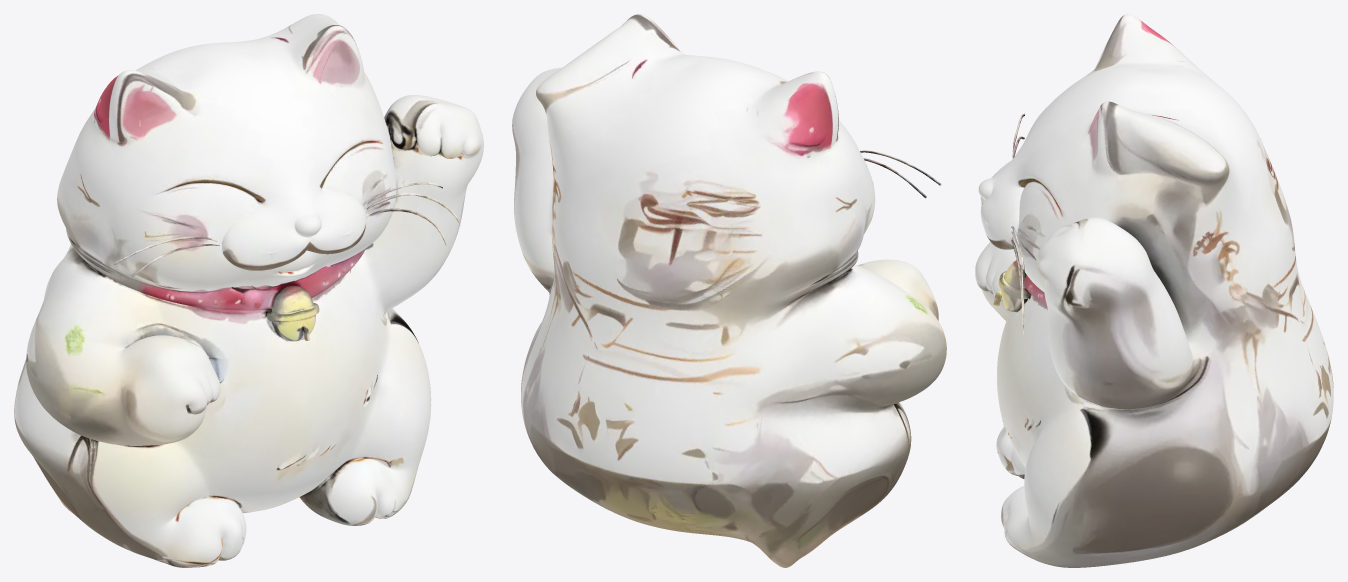
The model's file is SMILE_CAT-optimized.glb.
The picture shows the model from 3 angles, left to right: view 1: azimuth 30°, elevation 25°; view 2: azimuth 150°, elevation 25°; view 3: azimuth 270°, elevation 25°; orthographic projection. The views are drawn at different scales.
Size of the model in its own units: 1.74 by 1.84 by 1.29.
Materials: 1 (1 with a texture image).
